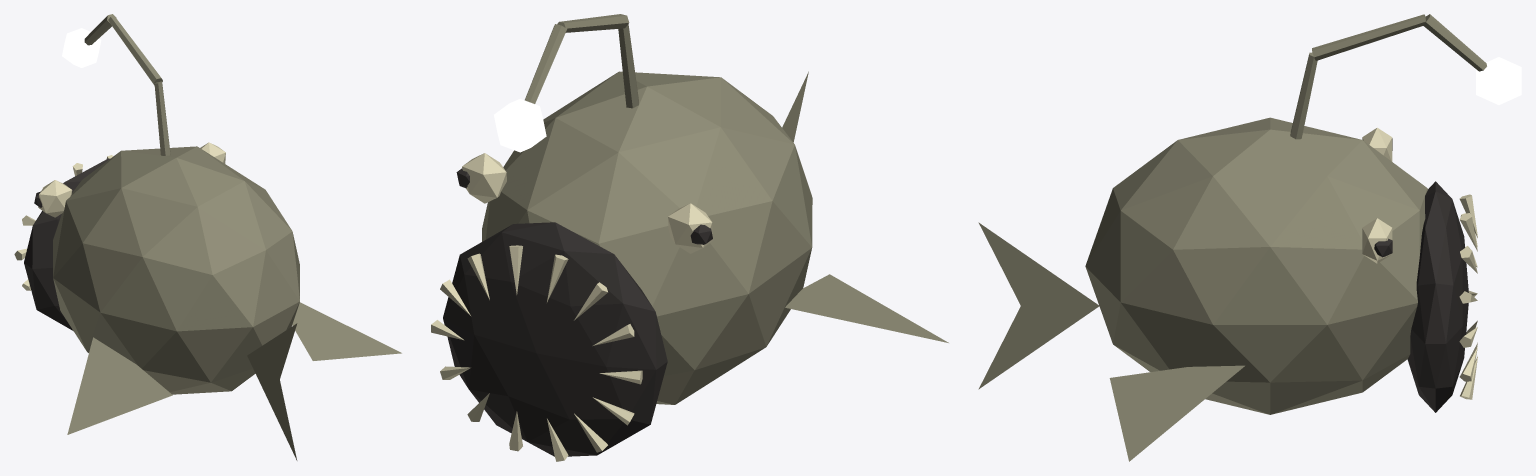
The model's file is Anglerfish.fbx.
3 renders of one model, left to right at view 1: azimuth 30°, elevation 25°; view 2: azimuth 150°, elevation 25°; view 3: azimuth 270°, elevation 25°, orthographic. The views are drawn at different scales.
Parts seen in each view (by area): view 1: Body, Pectoral1, Pectoral-1, Mouth, TailFin, LureLight, Eye1, LureStalk1, LureStalk0; view 2: Body, Mouth, Pectoral1, LureLight, Eye-1, Eye1, LureStalk2, LureStalk0, LureStalk1, TailFin; view 3: Body, Mouth, TailFin, Pectoral-1, LureLight, LureStalk1, LureStalk0, LureStalk2, Eye-1, Eye1.
Part boxes in pixels (x1=…): Body: x1=53, y1=146, x2=299, y2=394; Pectoral1: x1=67, y1=337, x2=172, y2=434; Pectoral-1: x1=292, y1=302, x2=401, y2=360; Mouth: x1=24, y1=158, x2=109, y2=330; TailFin: x1=247, y1=323, x2=297, y2=460; LureLight: x1=62, y1=28, x2=101, y2=67; Eye1: x1=38, y1=180, x2=72, y2=217; LureStalk1: x1=108, y1=16, x2=162, y2=85; LureStalk0: x1=154, y1=81, x2=170, y2=155; Body: x1=482, y1=71, x2=812, y2=404; Mouth: x1=443, y1=222, x2=667, y2=456; Pectoral1: x1=785, y1=274, x2=948, y2=342; LureLight: x1=494, y1=98, x2=546, y2=152; Eye-1: x1=462, y1=153, x2=506, y2=203; Eye1: x1=668, y1=203, x2=713, y2=253; LureStalk2: x1=525, y1=24, x2=566, y2=103; LureStalk0: x1=618, y1=24, x2=638, y2=108; LureStalk1: x1=557, y1=14, x2=629, y2=32; TailFin: x1=782, y1=71, x2=808, y2=142; Body: x1=1085, y1=117, x2=1427, y2=414; Mouth: x1=1407, y1=181, x2=1468, y2=412; TailFin: x1=978, y1=222, x2=1099, y2=389; Pectoral-1: x1=1109, y1=365, x2=1244, y2=461; LureLight: x1=1476, y1=57, x2=1521, y2=104; LureStalk1: x1=1312, y1=14, x2=1425, y2=60; LureStalk0: x1=1290, y1=52, x2=1317, y2=139; LureStalk2: x1=1422, y1=14, x2=1486, y2=71; Eye-1: x1=1362, y1=218, x2=1392, y2=263; Eye1: x1=1362, y1=127, x2=1392, y2=161.
Size of the model in its own units: 0.96 by 0.879 by 1.12.
